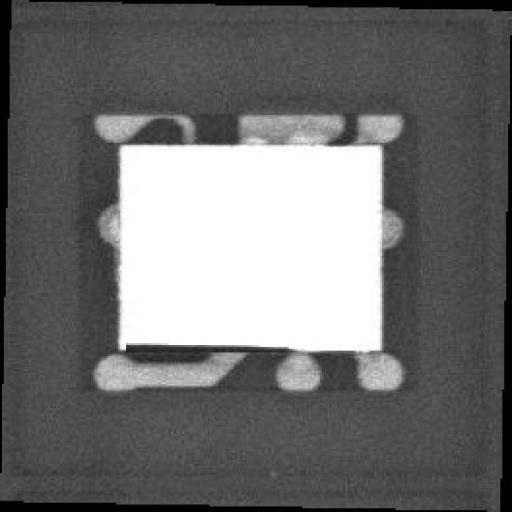DIE_BROKEN: (118, 338, 295, 354)
